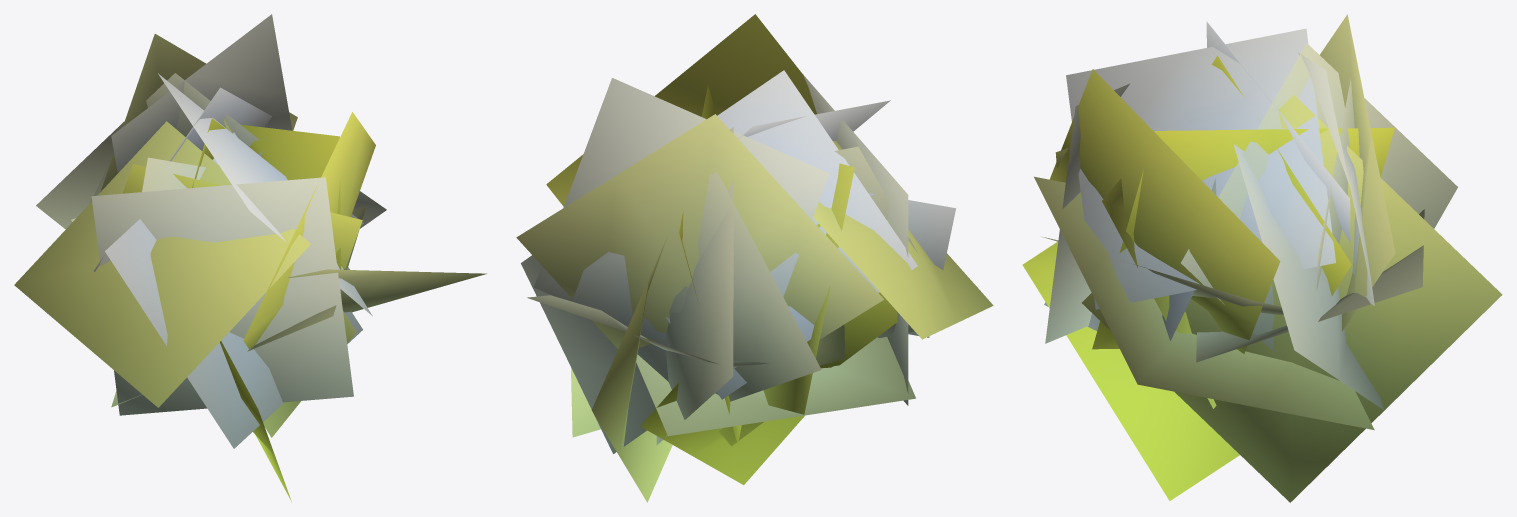
Rendered from bush_a.glb.
3 views of the same model, side by side, from view 1: azimuth 30°, elevation 25°; view 2: azimuth 150°, elevation 25°; view 3: azimuth 270°, elevation 25° (orthographic). The views are drawn at different scales.
Parts seen in each view (by area): view 1: bush_a; view 2: bush_a; view 3: bush_a.
Boxes of the visible parts, x1,y1,x2,y2 form: bush_a: (14,14,486,501); bush_a: (516,14,993,502); bush_a: (1022,14,1502,502).
Bounding box in the file's own units: 1.56 × 1.57 × 1.49.
